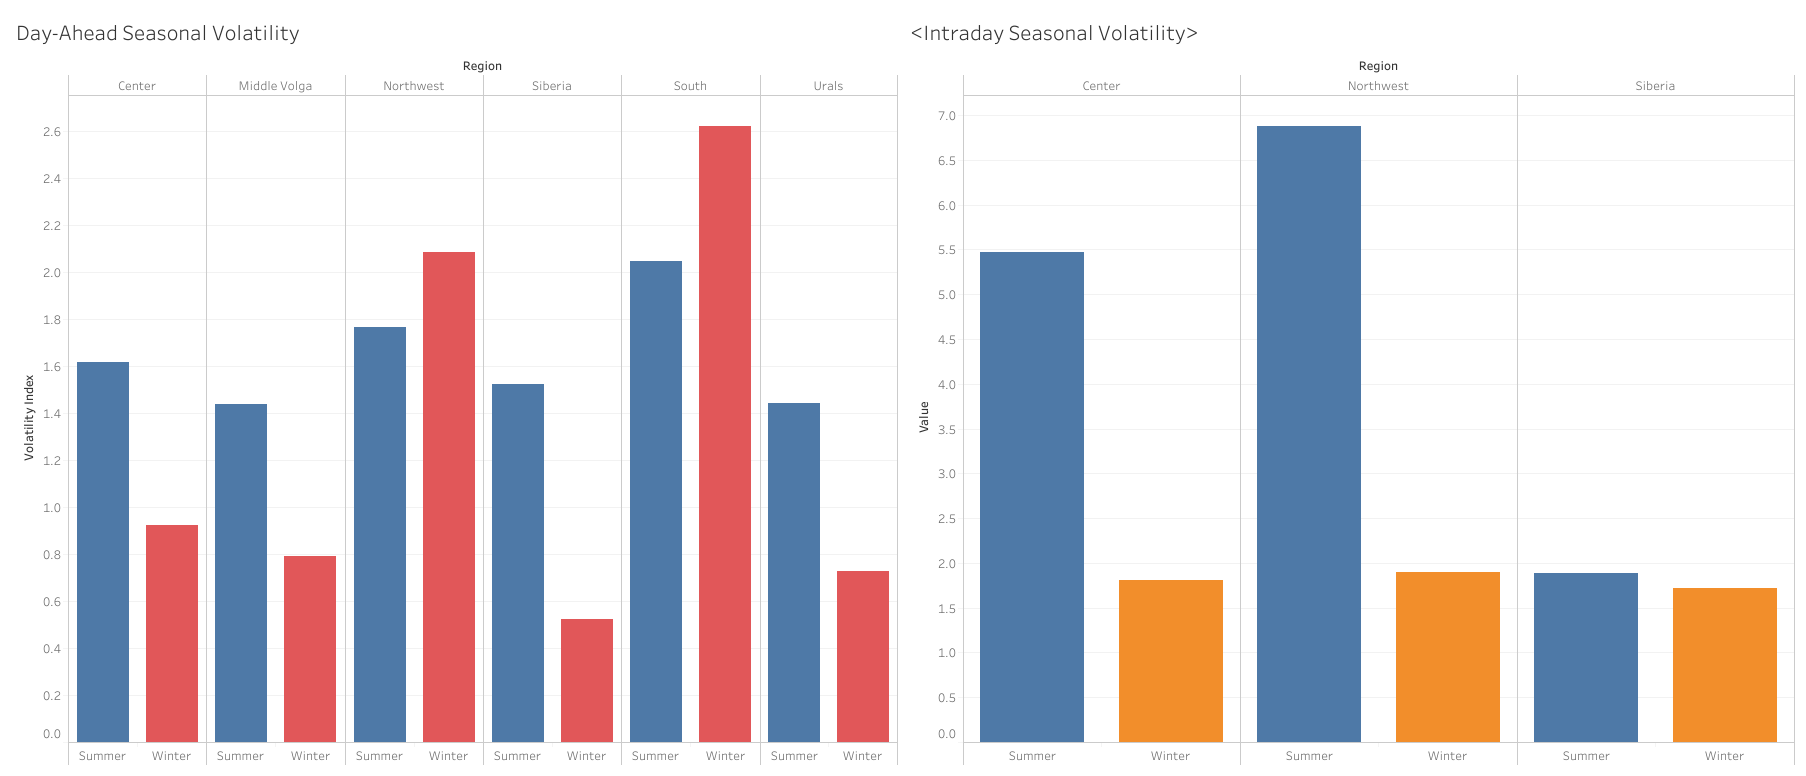

What the dashboard file says about the page in this screenshot:
{"tool":"tableau","page":{"name":"Dashboard 1","canvas":[1000,1000],"units":"permille","ordinal":0},"visuals":[{"type":"worksheet","title":"Sheet 1","mark":"Automatic","rows":["volatility_index"],"cols":["month"],"box":[4.1,6.8,909.3,493.2]},{"type":"legend","title":"Sheet 1","param":"[federated.1ofyf1b0hrd7kf1b59lzm074dguj].[none:region:nk]","box":[913.4,6.8,82.5,157.3]},{"type":"legend","title":"Sheet 2","param":"[federated.121jmtw1icwjbt1cwyzr80yp3v4g].[none:region:nk]","box":[913.4,164.1,82.5,93.2]},{"type":"worksheet","title":"Sheet 2","mark":"Automatic","rows":["volatility_index"],"cols":["month"],"box":[4.1,500,909.3,493.2]}]}

Visuals, with their boxes on the dashboard's canvas, which has no fixed pixel size, in thousandths of its width and height (x1, y1, x2, y2). These are canvas units, not pixel positions in the 1806x776 screenshot, which may show the page scaled, cropped or inside an application window:
"Sheet 1" worksheet: bbox=[4, 7, 913, 500]
"Sheet 1" legend: bbox=[913, 7, 996, 164]
"Sheet 2" legend: bbox=[913, 164, 996, 257]
"Sheet 2" worksheet: bbox=[4, 500, 913, 993]
